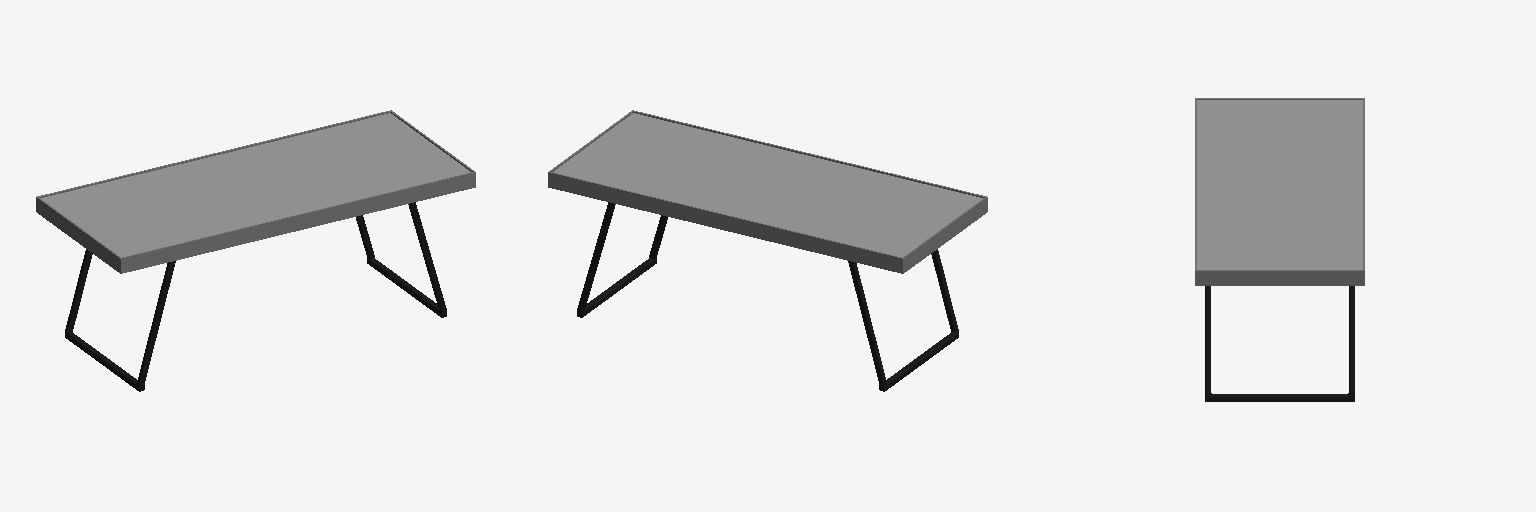
Rendered from coffee-table.obj.
3 renders of one model, left to right at view 1: azimuth 30°, elevation 25°; view 2: azimuth 150°, elevation 25°; view 3: azimuth 270°, elevation 25°, orthographic.
Parts seen in each view (by area): view 1: table-top.003_C_Cube.003_C, table-leg.004_C_Cube.004_C; view 2: table-top.003_C_Cube.003_C, table-leg.004_C_Cube.004_C; view 3: table-top.003_C_Cube.003_C, table-leg.004_C_Cube.004_C.
Boxes of the visible parts, x1=… form: table-top.003_C_Cube.003_C: x1=36, y1=110, x2=475, y2=273; table-leg.004_C_Cube.004_C: x1=65, y1=202, x2=446, y2=391; table-top.003_C_Cube.003_C: x1=548, y1=110, x2=987, y2=273; table-leg.004_C_Cube.004_C: x1=577, y1=202, x2=958, y2=391; table-top.003_C_Cube.003_C: x1=1195, y1=98, x2=1364, y2=285; table-leg.004_C_Cube.004_C: x1=1205, y1=286, x2=1354, y2=401.
Bounding box in the file's own units: 1.24 × 0.4766 × 0.5116.